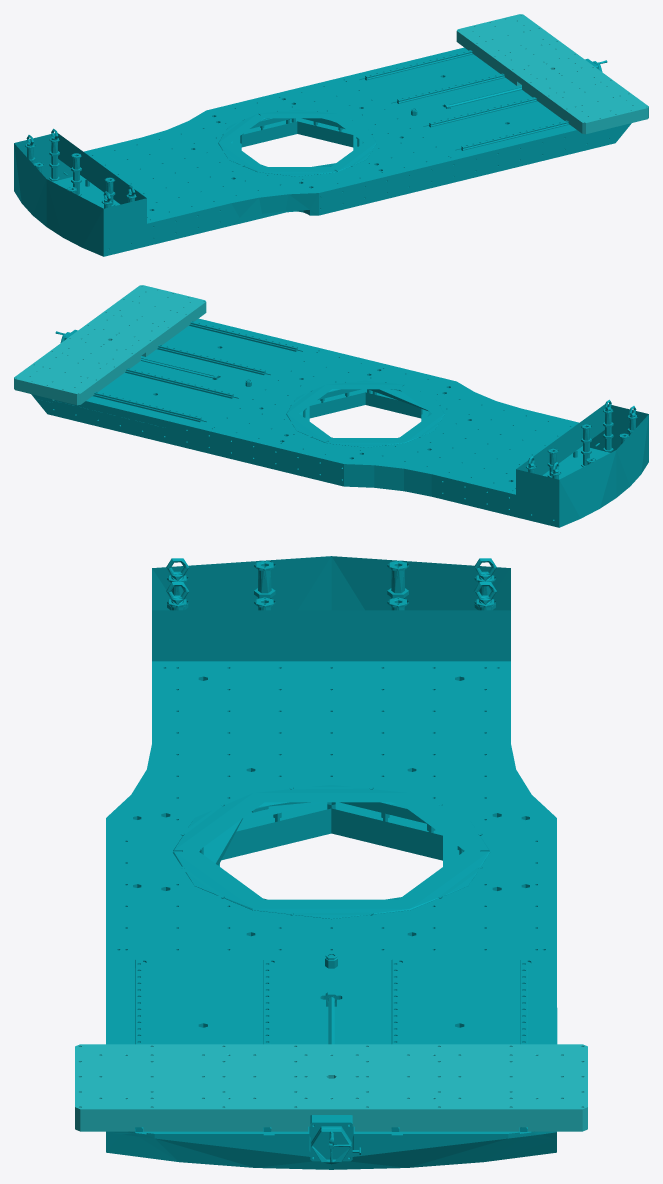
The model's file is ttheta_arm.dae.
3 renders of one model, top to bottom at view 1: azimuth 30°, elevation 25°; view 2: azimuth 150°, elevation 25°; view 3: azimuth 270°, elevation 25°, orthographic. The views are drawn at different scales.
Parts seen in each view (by area): view 1: node0, node1; view 2: node0, node1; view 3: node0, node1.
Boxes of the visible parts, box(x1,y1,x2,y2) form: node0: box(14, 47, 631, 256); node1: box(456, 14, 648, 134); node0: box(31, 318, 648, 527); node1: box(14, 285, 206, 405); node0: box(106, 556, 557, 1169); node1: box(75, 1044, 587, 1131).
Bounding box in the file's own units: 2.52 × 1 × 0.249.
